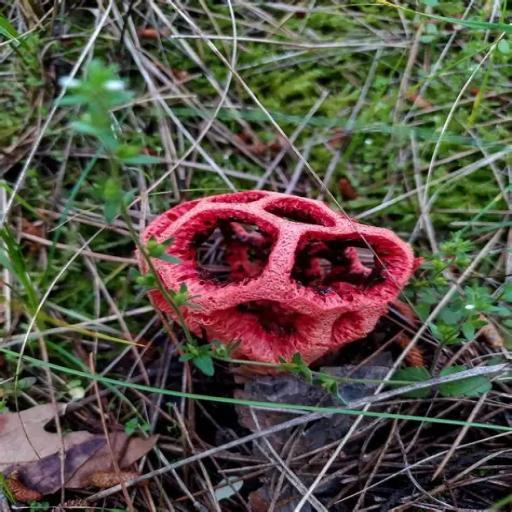mushroom: (137, 188, 418, 362)
